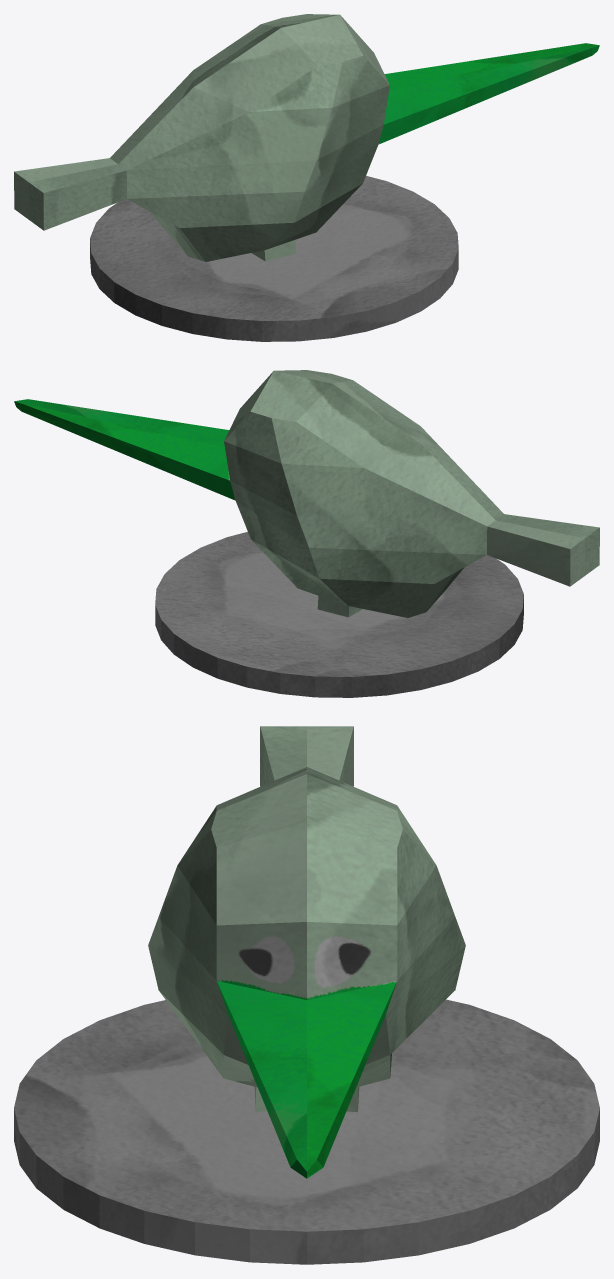
Rendered from Estatua_pajaro3.glb.
The picture shows the model from 3 angles, top to bottom: view 1: azimuth 30°, elevation 25°; view 2: azimuth 150°, elevation 25°; view 3: azimuth 270°, elevation 25°; orthographic projection. The views are drawn at different scales.
Parts seen in each view (by area): view 1: F_estatua_pajaro3; view 2: F_estatua_pajaro3; view 3: F_estatua_pajaro3.
Boxes of the visible parts, <box> form: F_estatua_pajaro3: <box>14,14,599,341</box>; F_estatua_pajaro3: <box>14,370,599,697</box>; F_estatua_pajaro3: <box>14,726,599,1264</box>.
Bounding box in the file's own units: 4.39 × 1.72 × 2.46.
1 material, 1 textured.
